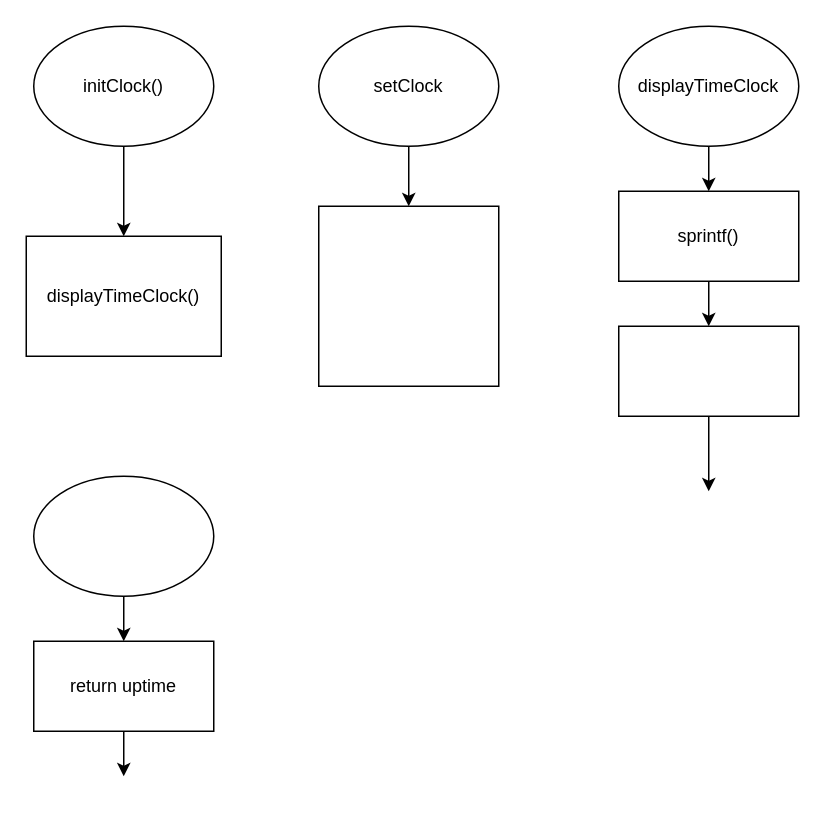
The diagram is 825 pixels wide and 815 high, and some of its shapes have lost their labels. The shapes that lost their labels are listed below. From the top down, each one's centre as x and y in pixels, then its label:
At point 408,295: "hrs = hours mins=minutes secs=seconds ticks=0".
At point 708,370: "writeLine()".
At point 123,535: "time".
